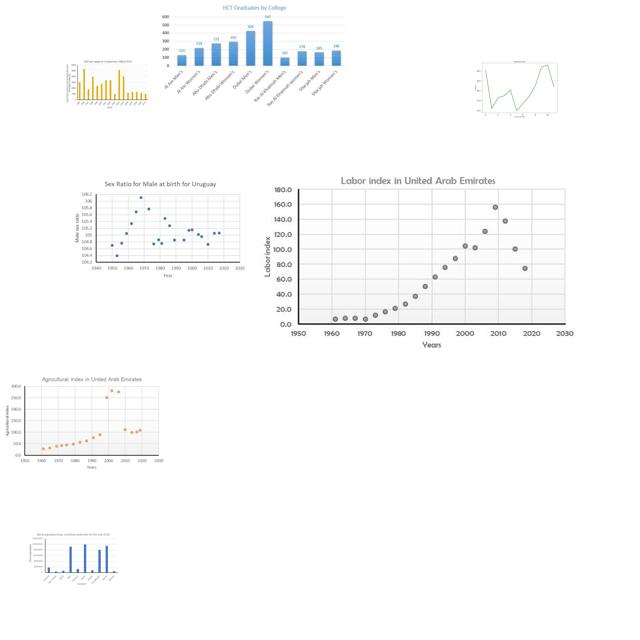Graph: (260, 171, 576, 350), (161, 1, 346, 109), (69, 176, 247, 282), (0, 372, 166, 470), (470, 54, 567, 121), (28, 532, 119, 586), (65, 60, 149, 109)
